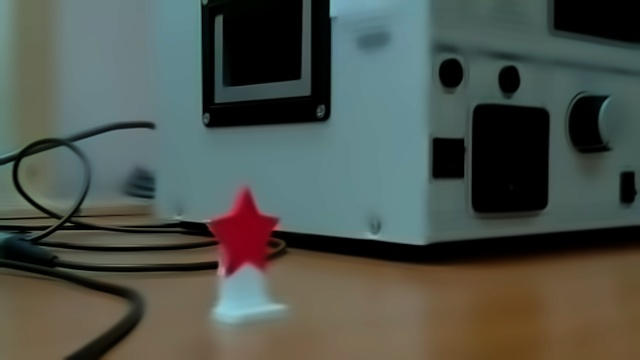star: (182, 182, 310, 328)
